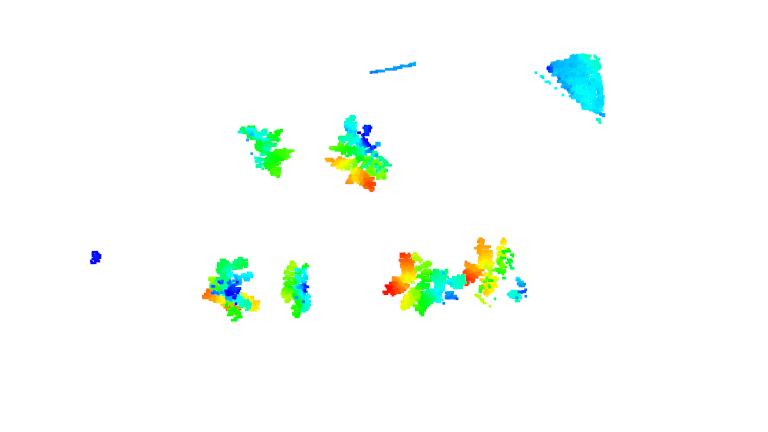chickpea: (326, 115, 395, 196), (383, 249, 462, 317), (462, 237, 530, 307), (203, 254, 261, 323), (234, 122, 298, 178), (277, 256, 316, 322)
